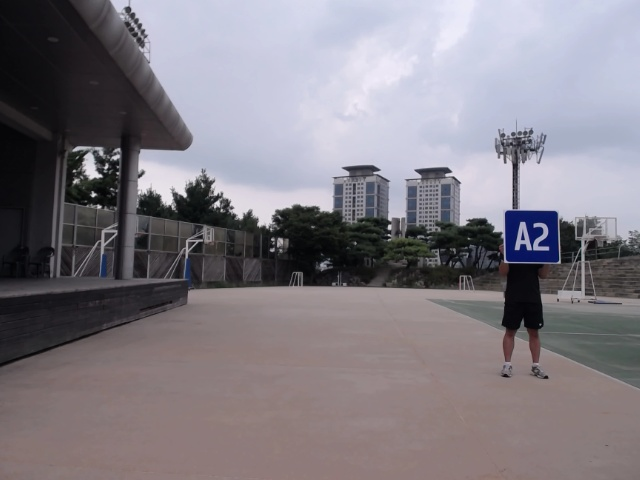delivery_a2: (504, 210, 560, 263)
